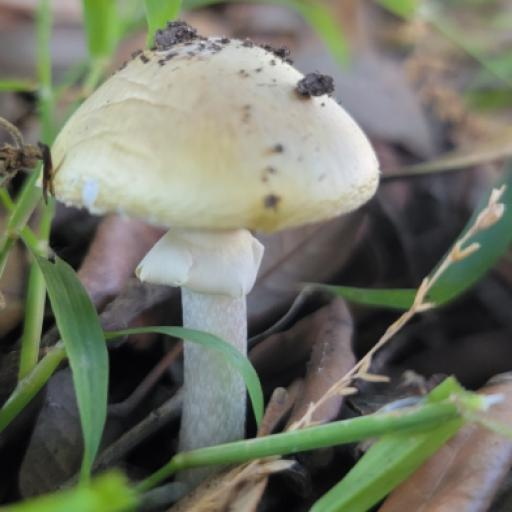mushroom: (14, 0, 414, 366)
